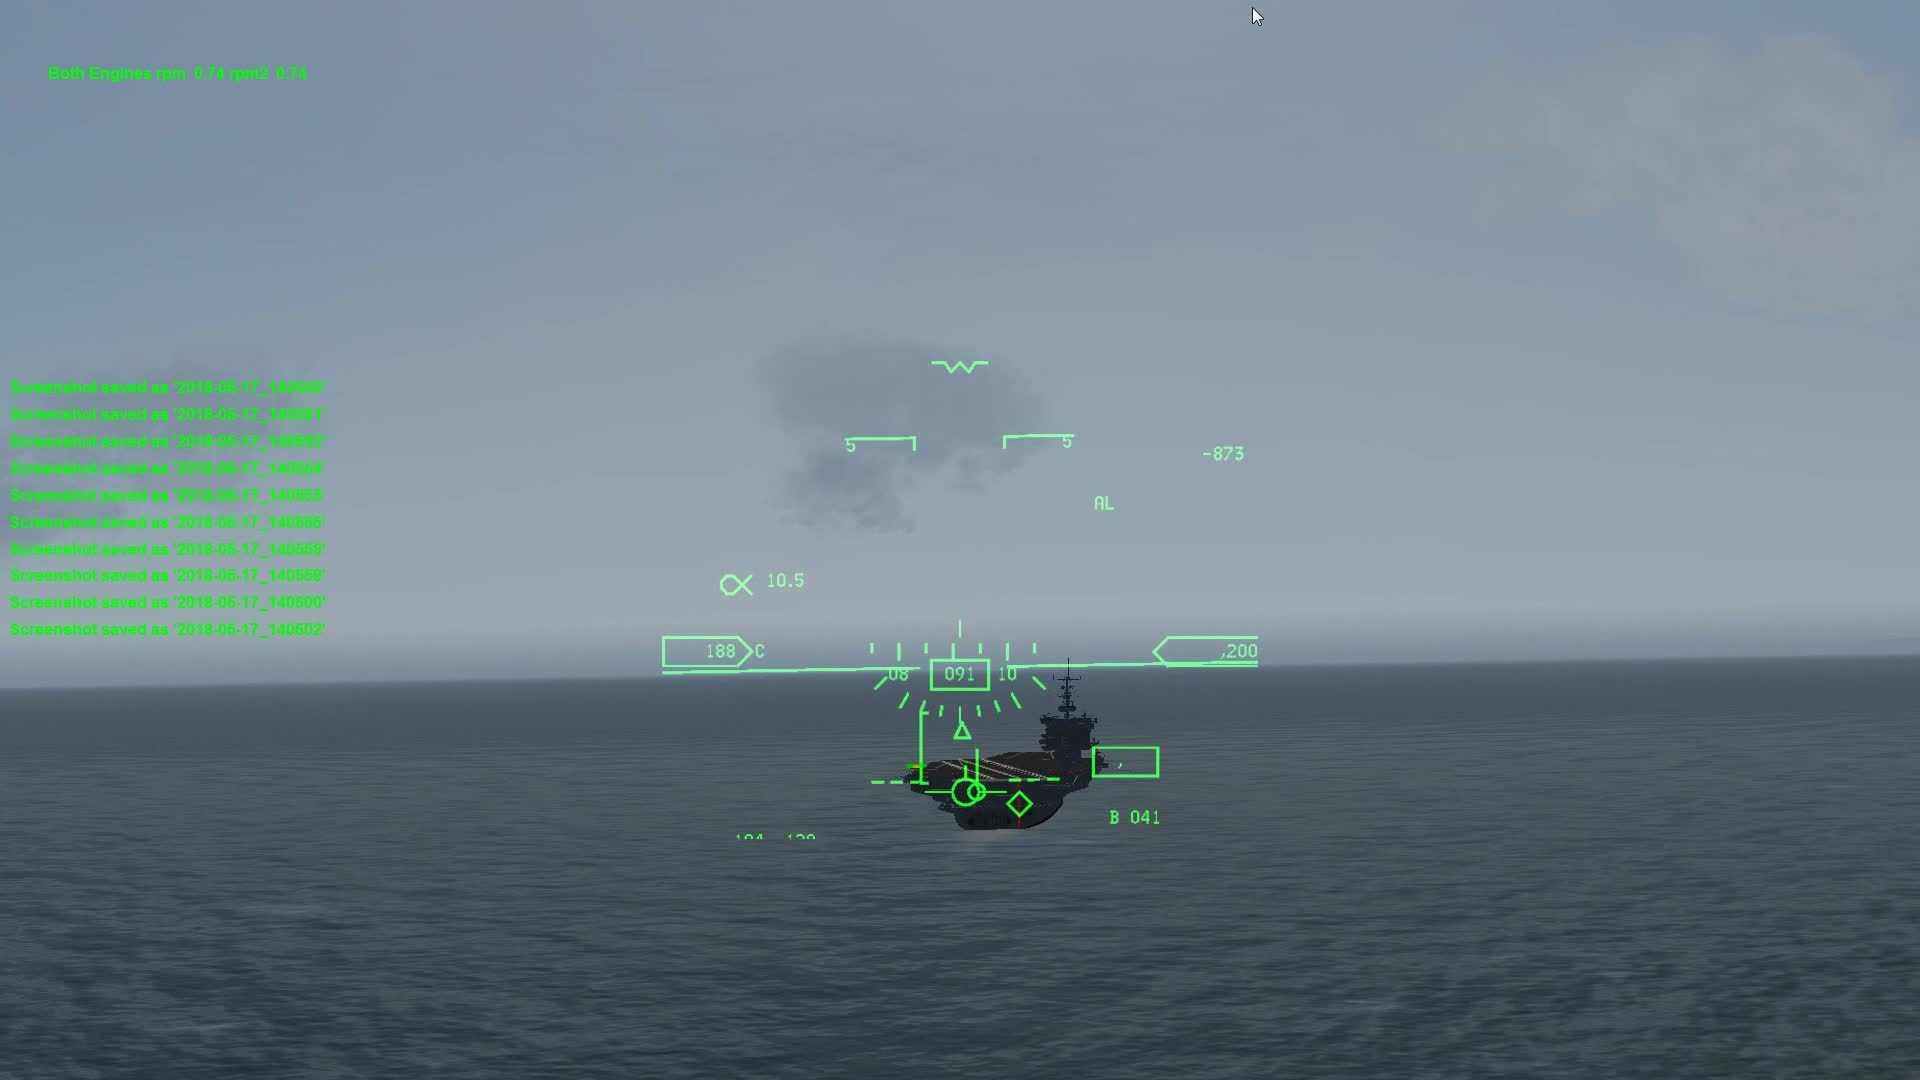speed vector: (924, 764, 1002, 811)
